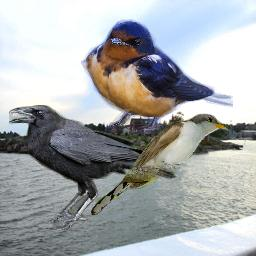Crow: (9, 105, 177, 230)
Cuckoo: (88, 112, 233, 216)
Swallow: (81, 19, 233, 136)
